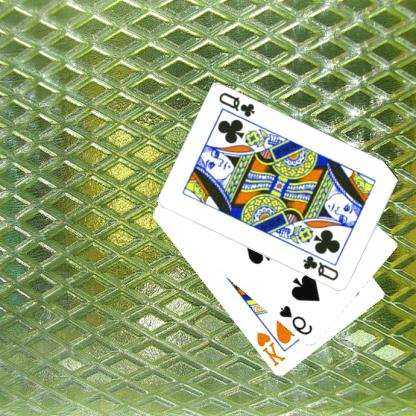6S: (278, 303, 316, 337)
KH: (255, 330, 289, 368)
QC: (302, 253, 342, 283), (218, 90, 258, 119)
